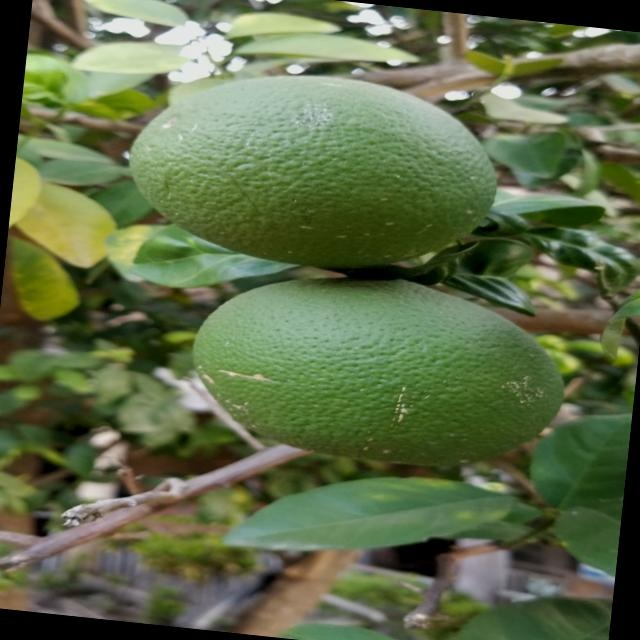agrume: (108, 51, 512, 285), (192, 272, 596, 482)
